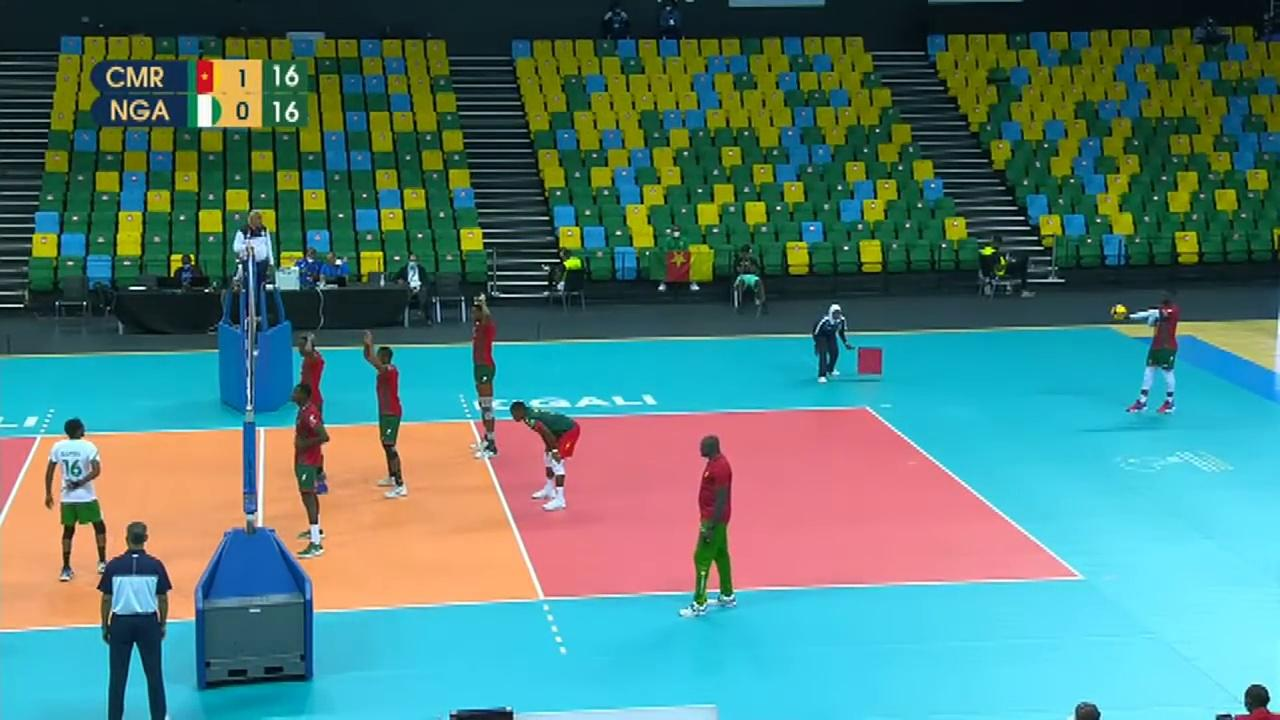player: (47, 422, 110, 579), (1118, 292, 1182, 413), (510, 402, 581, 506), (365, 336, 408, 499), (290, 386, 327, 554), (294, 332, 331, 494), (469, 294, 501, 453)
refree: (96, 518, 179, 720), (233, 210, 273, 316), (812, 303, 851, 385)
